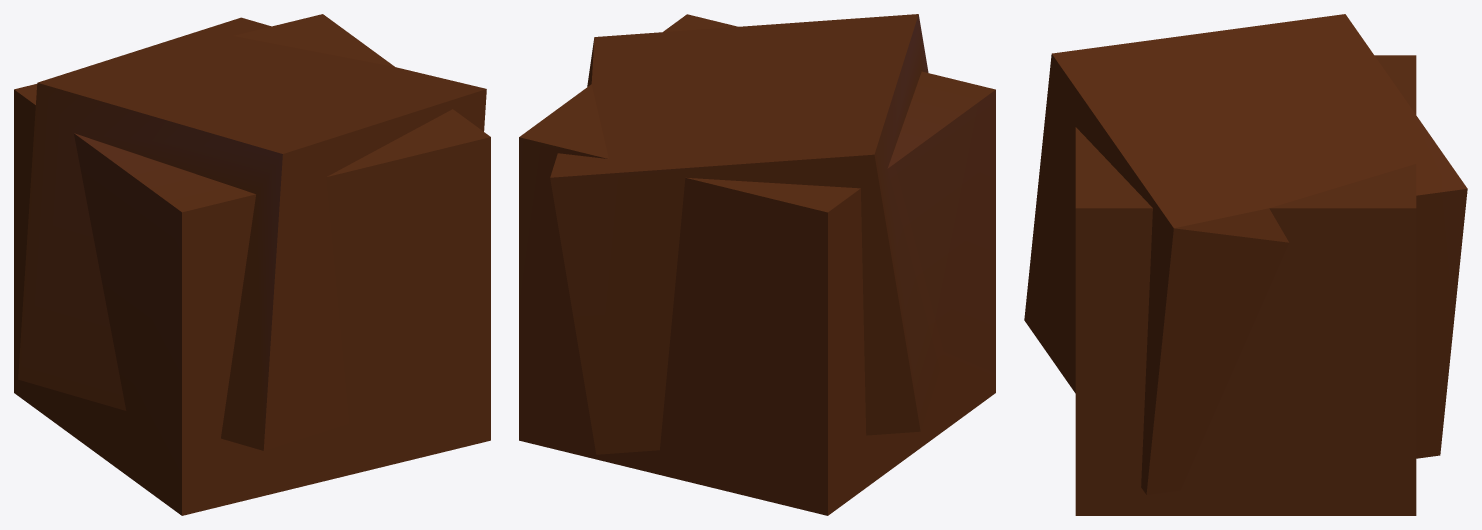
Rendered from stack-iron-ore.glb.
3 renders of one model, left to right at view 1: azimuth 30°, elevation 25°; view 2: azimuth 150°, elevation 25°; view 3: azimuth 270°, elevation 25°, orthographic.
Visible parts, largest first — view 1: Cube.030; view 2: Cube.030; view 3: Cube.030.
Boxes of the visible parts, <box> form: Cube.030: <box>14,14,490,515</box>; Cube.030: <box>519,14,995,515</box>; Cube.030: <box>1024,14,1467,515</box>.
Bounding box in the file's own units: 3.08 × 2.58 × 2.93.
